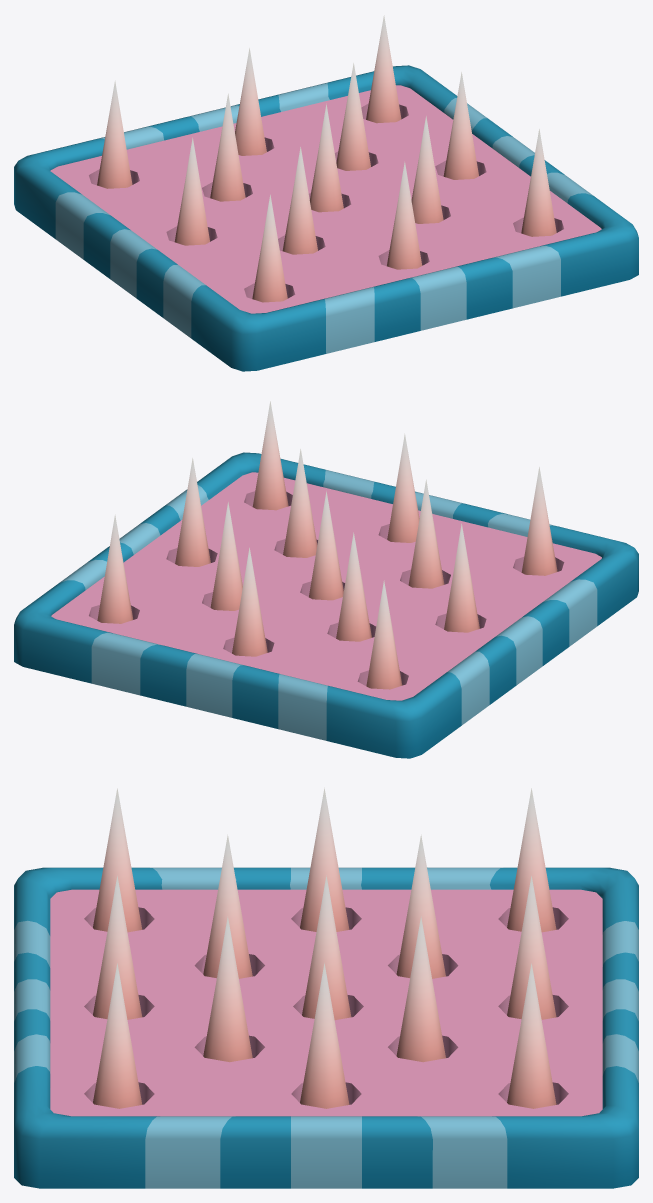
The model's file is Obstacle-16.fbx.
3 views of the same model, one above another, from view 1: azimuth 30°, elevation 25°; view 2: azimuth 150°, elevation 25°; view 3: azimuth 270°, elevation 25° (orthographic). The views are drawn at different scales.
Visible parts, largest first — view 1: Obs-16, Obs-16-H; view 2: Obs-16, Obs-16-H; view 3: Obs-16, Obs-16-H.
Boxes of the visible parts, bbox=[...] form: Obs-16: bbox=[14, 65, 638, 371]; Obs-16-H: bbox=[97, 15, 556, 302]; Obs-16: bbox=[14, 452, 638, 758]; Obs-16-H: bbox=[97, 401, 557, 689]; Obs-16: bbox=[14, 867, 638, 1188]; Obs-16-H: bbox=[93, 787, 556, 1108].
Bounding box in the file's own units: 2.26 × 0.7253 × 2.26.
